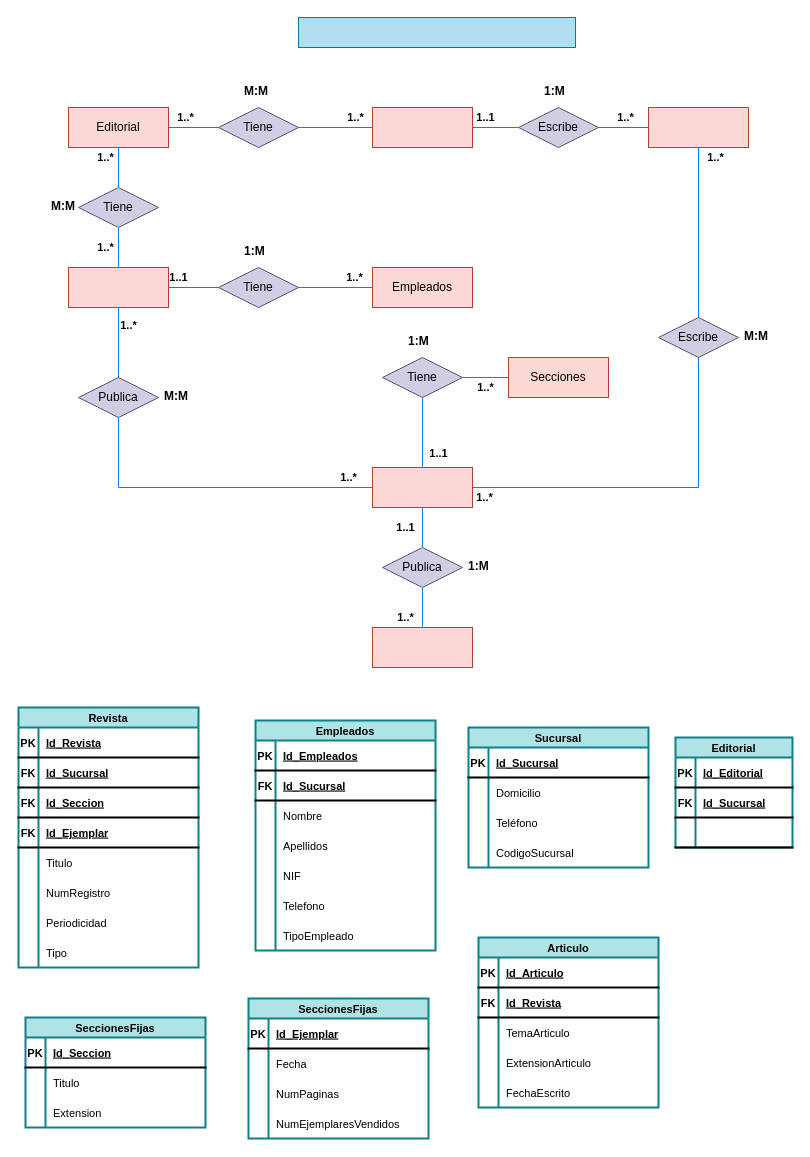
This 810x1157 diagram has some shape labels left out. Here are the shapes that lost their labels. From the top down, the centre of each, then its label:
At [437,32]: "ENTIDAD-RELACIÓN".
At [422,127]: "Periodistas".
At [698,127]: "Artículos".
At [118,287]: "Sucursales".
At [422,487]: "Revistas".
At [422,647]: "Ejemplares".
